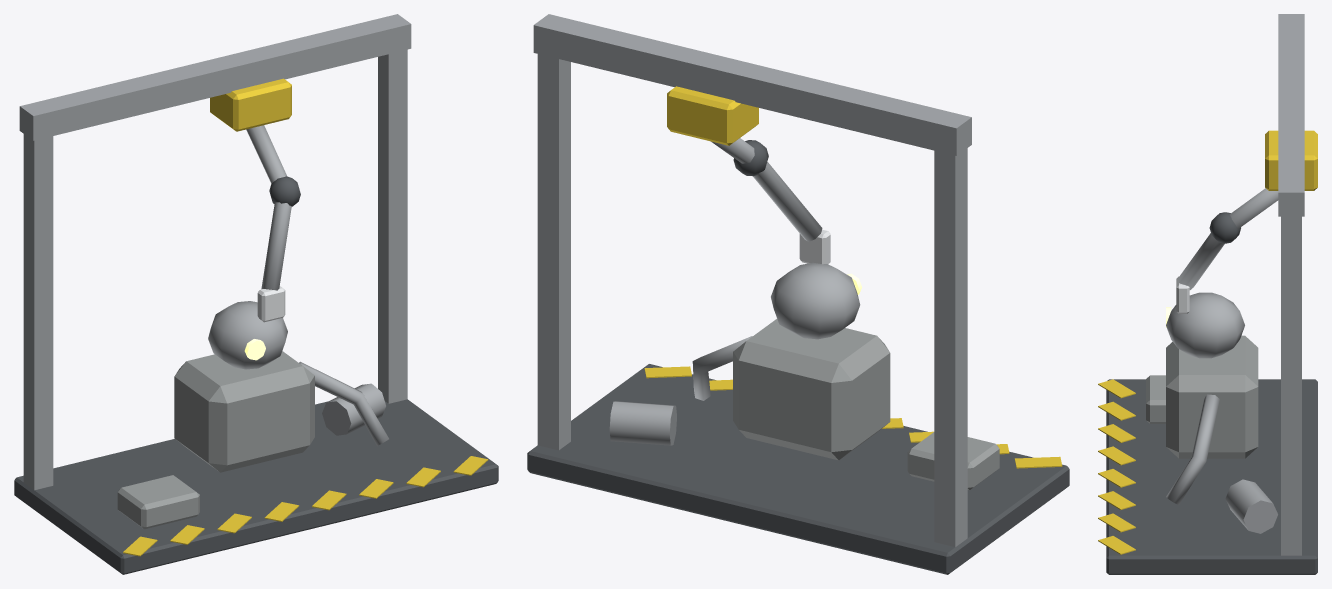
Rendered from an_gantry.glb.
3 views of the same model, side by side, from view 1: azimuth 30°, elevation 25°; view 2: azimuth 150°, elevation 25°; view 3: azimuth 270°, elevation 25° (orthographic). The views are drawn at different scales.
Parts seen in each view (by area): view 1: an_gantry; view 2: an_gantry; view 3: an_gantry.
Part boxes in pixels (left/top/right/bottom): an_gantry: left=14, top=14, right=498, bottom=574; an_gantry: left=527, top=14, right=1069, bottom=574; an_gantry: left=1098, top=14, right=1317, bottom=574.
Size of the model in its own units: 3.2 by 3.2 by 1.66.
